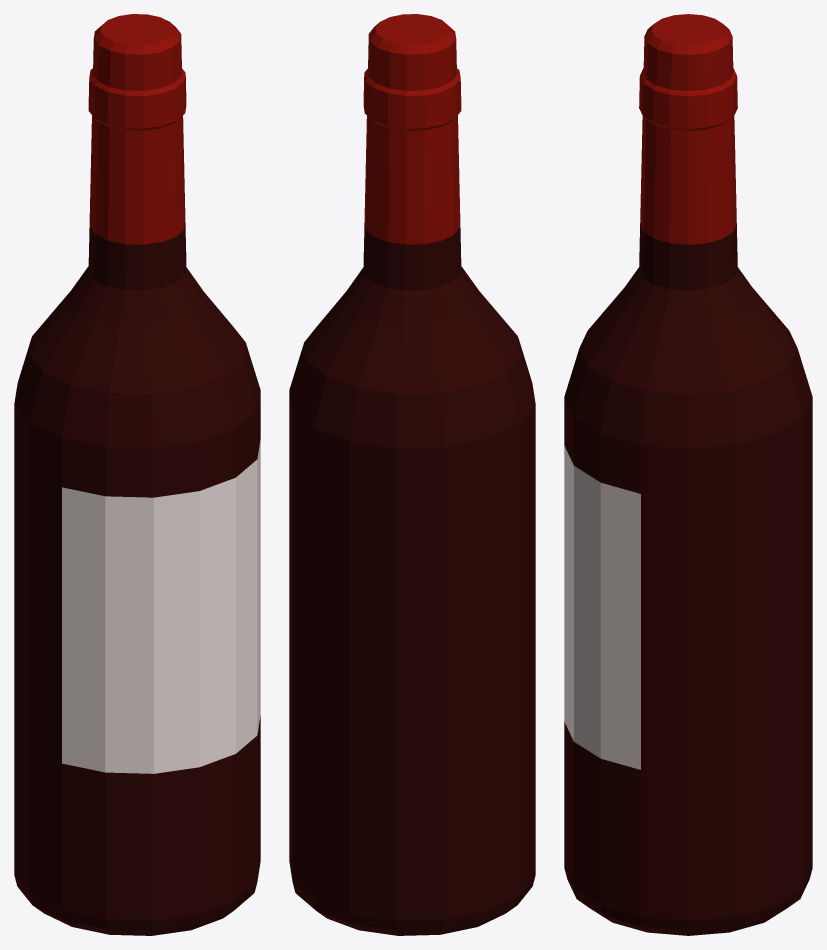
The model's file is bottledPaper.glb.
The picture shows the model from 3 angles, left to right: view 1: azimuth 30°, elevation 25°; view 2: azimuth 150°, elevation 25°; view 3: azimuth 270°, elevation 25°; orthographic projection.
Parts seen in each view (by area): view 1: bottledPaper:Bottle_of_Wine; view 2: bottledPaper:Bottle_of_Wine; view 3: bottledPaper:Bottle_of_Wine.
Boxes of the visible parts, x1=… form: bottledPaper:Bottle_of_Wine: x1=14, y1=14, x2=260, y2=935; bottledPaper:Bottle_of_Wine: x1=289, y1=14, x2=535, y2=935; bottledPaper:Bottle_of_Wine: x1=564, y1=14, x2=812, y2=935.
Bounding box in the file's own units: 20.67 × 79.23 × 20.67.
1 material, 1 textured.
